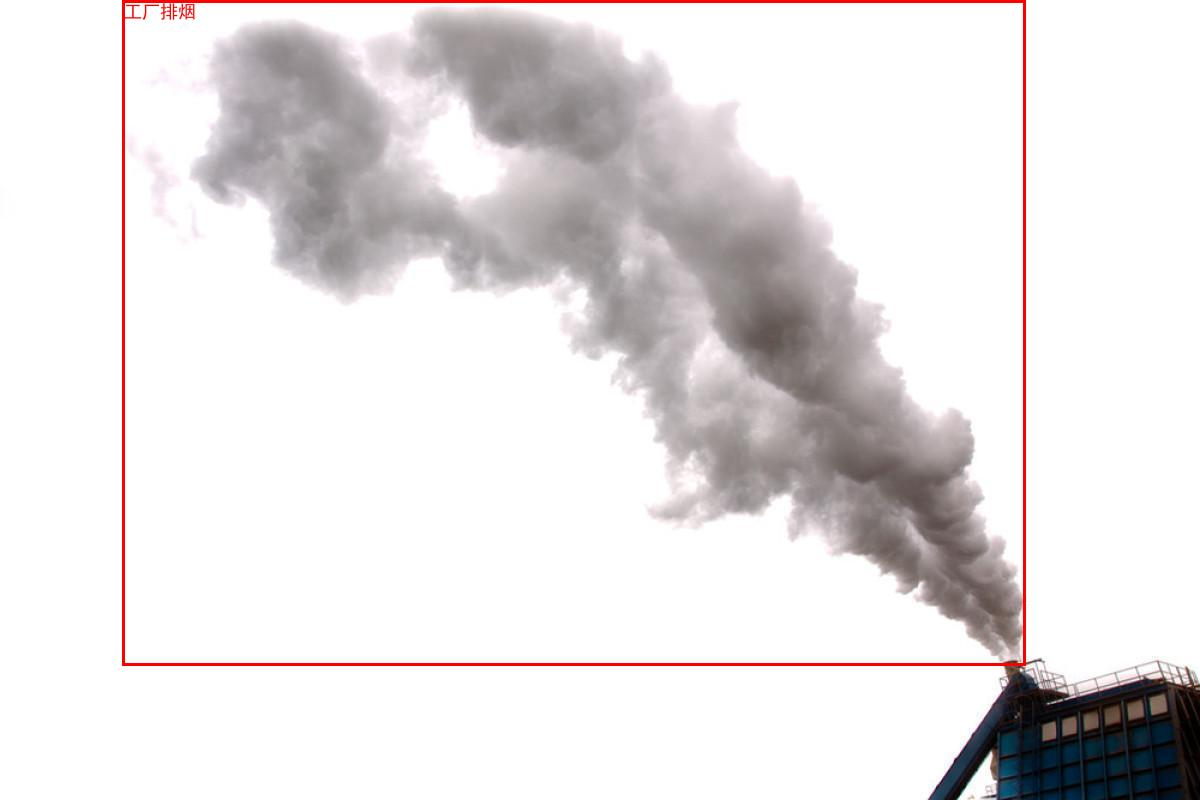工厂排烟: (122, 0, 1025, 665)
